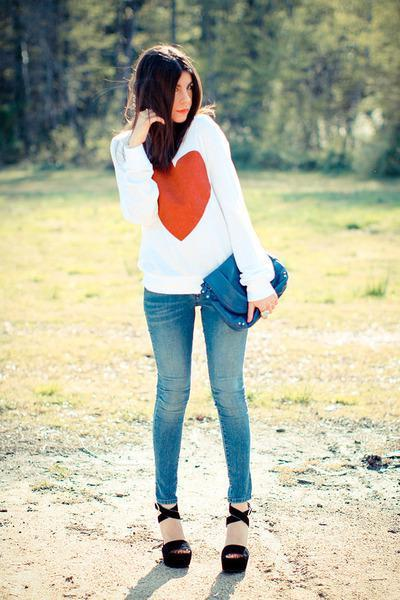sweater: (108, 113, 278, 296)
trousers: (143, 284, 256, 502)
